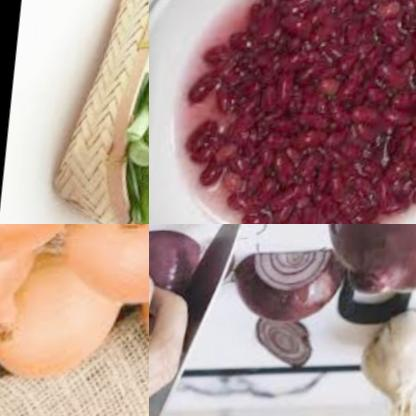beans: (172, 0, 416, 224)
garlic: (351, 313, 416, 416)
onion: (0, 252, 136, 394), (32, 224, 149, 319), (224, 244, 346, 333), (311, 224, 416, 307), (0, 224, 51, 340), (244, 320, 324, 392), (149, 235, 203, 331), (133, 278, 149, 388)
